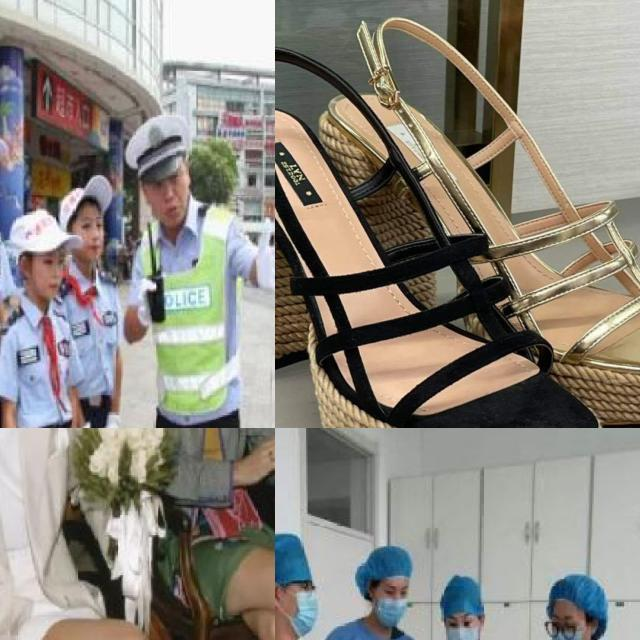Sandals: (275, 32, 630, 428), (313, 0, 640, 428)
face_mask: (278, 580, 326, 634), (372, 579, 416, 631), (549, 606, 593, 640), (444, 611, 484, 640)
face_nomask: (143, 171, 198, 226), (75, 211, 112, 265), (29, 254, 69, 300)
glasses: (539, 618, 581, 640)
hand_glove: (136, 272, 170, 331), (254, 214, 275, 297), (102, 412, 125, 428)
hand_noglove: (234, 432, 275, 486)
person: (119, 117, 275, 428), (0, 428, 173, 640), (53, 172, 134, 428), (117, 428, 275, 544), (4, 200, 84, 428), (344, 545, 429, 640), (520, 577, 631, 640), (416, 569, 507, 640)
vest: (130, 200, 240, 426)
